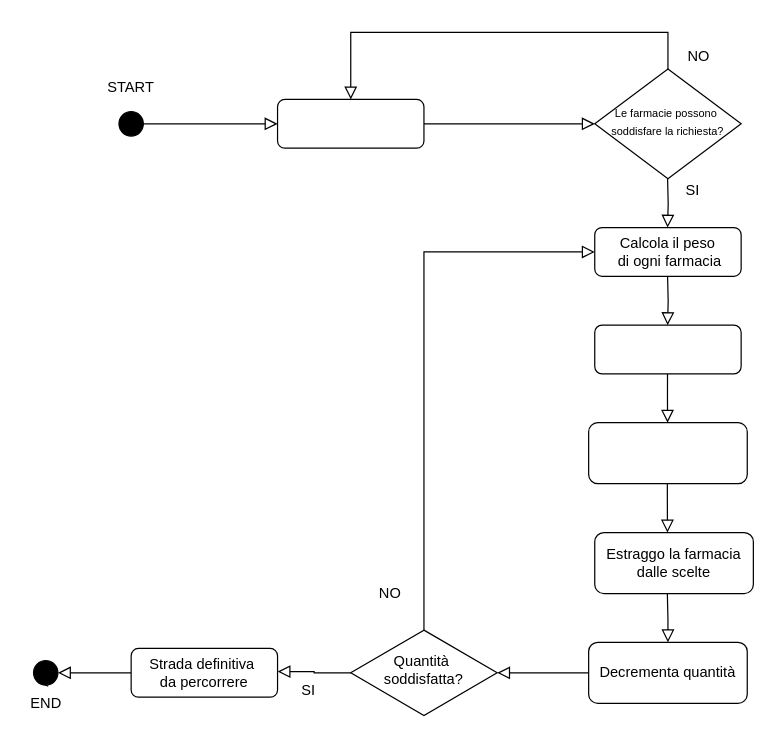
The diagram is 775 pixels wide and 737 high, and some of its shapes have lost their labels. The box of each missing label's shape, as (x1, y1, x2, y2) in pixels:
Inserisco la farmacia nella strada da percorrere: (587, 422, 747, 484)
Richiesta transfer medicinali: (276, 98, 424, 148)
Trova farmacia con peso massimo: (594, 324, 741, 374)
